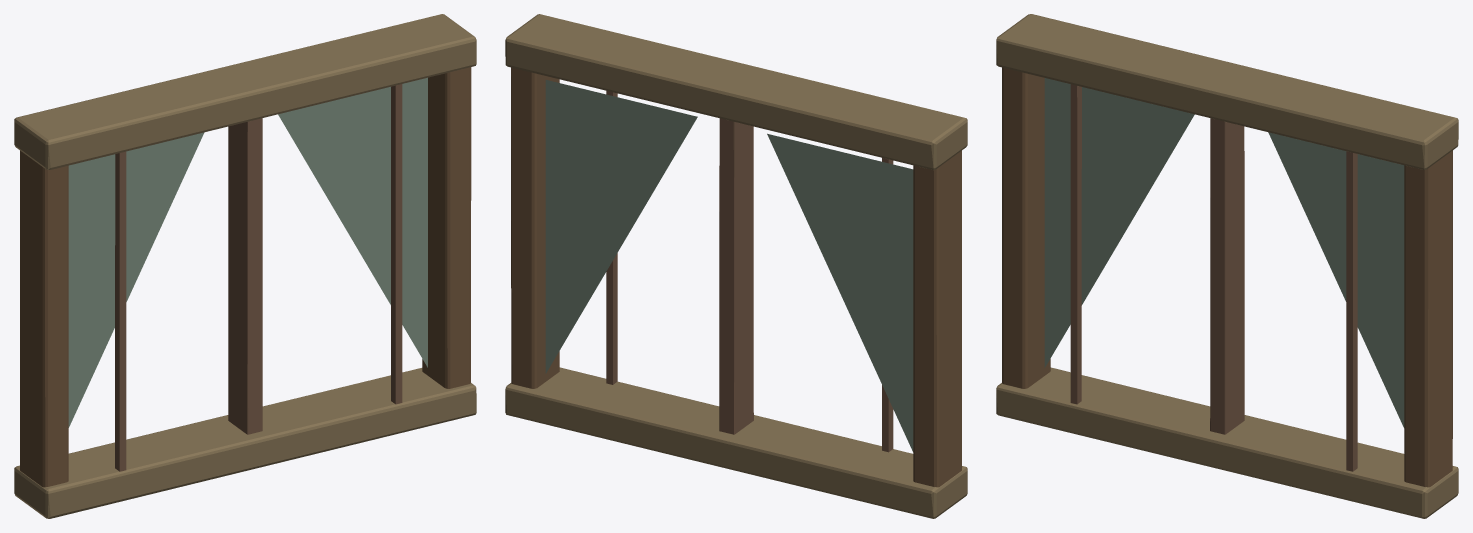
Rendered from broken_window_low.glb.
3 views of the same model, side by side, from view 1: azimuth 30°, elevation 25°; view 2: azimuth 150°, elevation 25°; view 3: azimuth 330°, elevation 25° (orthographic).
Parts seen in each view (by area): view 1: broken_window.001; view 2: broken_window.001; view 3: broken_window.001.
Part boxes in pixels (box(x1,y1,x2,y2)): broken_window.001: box(14, 14, 476, 518); broken_window.001: box(505, 14, 967, 518); broken_window.001: box(996, 14, 1458, 518).
Bounding box in the file's own units: 1.5 × 1.26 × 0.21.
